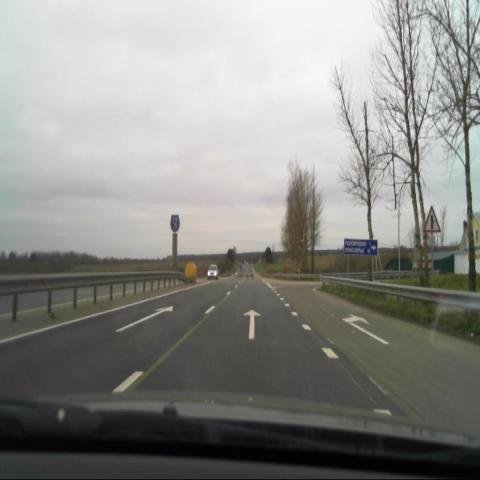2_3_2: (423, 206, 441, 235)
5_15_3: (168, 213, 182, 233)
